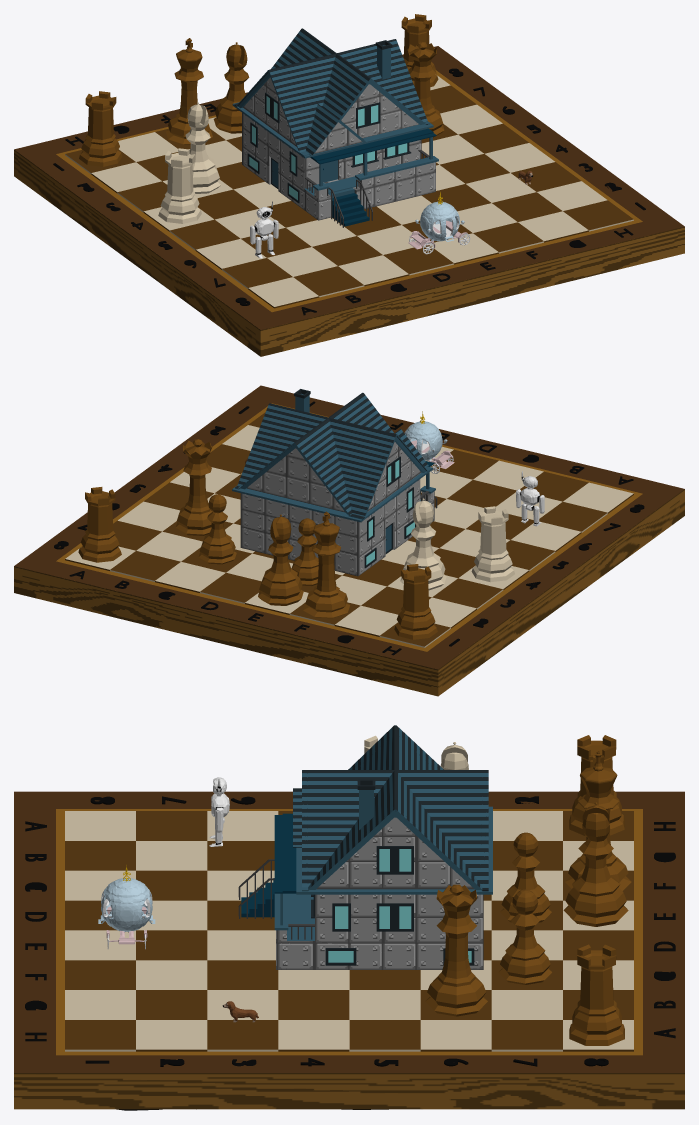
3 views of the same model, one above another, from view 1: azimuth 30°, elevation 25°; view 2: azimuth 150°, elevation 25°; view 3: azimuth 270°, elevation 25° (orthographic). The views are drawn at different scales.
Parts seen in each view (by area): view 1: Cube.002, Cube.078, VEHICLES_FANTASY_CARRIAGE, OBJRANDOM_PLATZEEBOT; view 2: Cube.002, Cube.078, VEHICLES_FANTASY_CARRIAGE, OBJRANDOM_PLATZEEBOT; view 3: Cube.002, Cube.078, VEHICLES_FANTASY_CARRIAGE, OBJRANDOM_PLATZEEBOT.
Boxes of the visible parts, x1,y1,x2,y2 form: Cube.002: (14,14,684,356); Cube.078: (232,28,438,227); VEHICLES_FANTASY_CARRIAGE: (408,192,470,254); OBJRANDOM_PLATZEEBOT: (250,201,278,258); Cube.002: (14,385,684,696); Cube.078: (232,389,437,576); VEHICLES_FANTASY_CARRIAGE: (404,411,454,473); OBJRANDOM_PLATZEEBOT: (516,471,544,526); Cube.002: (14,735,684,1109); Cube.078: (238,725,492,969); VEHICLES_FANTASY_CARRIAGE: (98,865,155,949); OBJRANDOM_PLATZEEBOT: (209,777,229,846).
Size of the model in its own units: 3981 by 1457 by 4012.
Materials: 29 (4 with a texture image).
